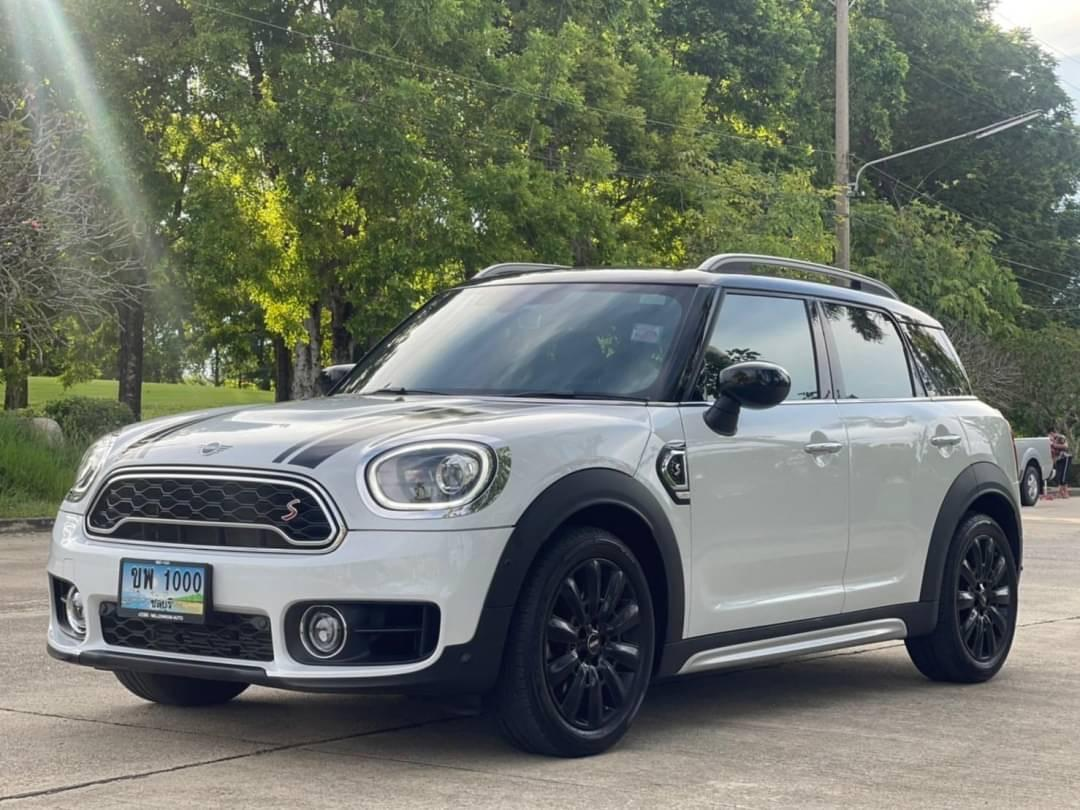license-plate: (114, 554, 215, 629)
